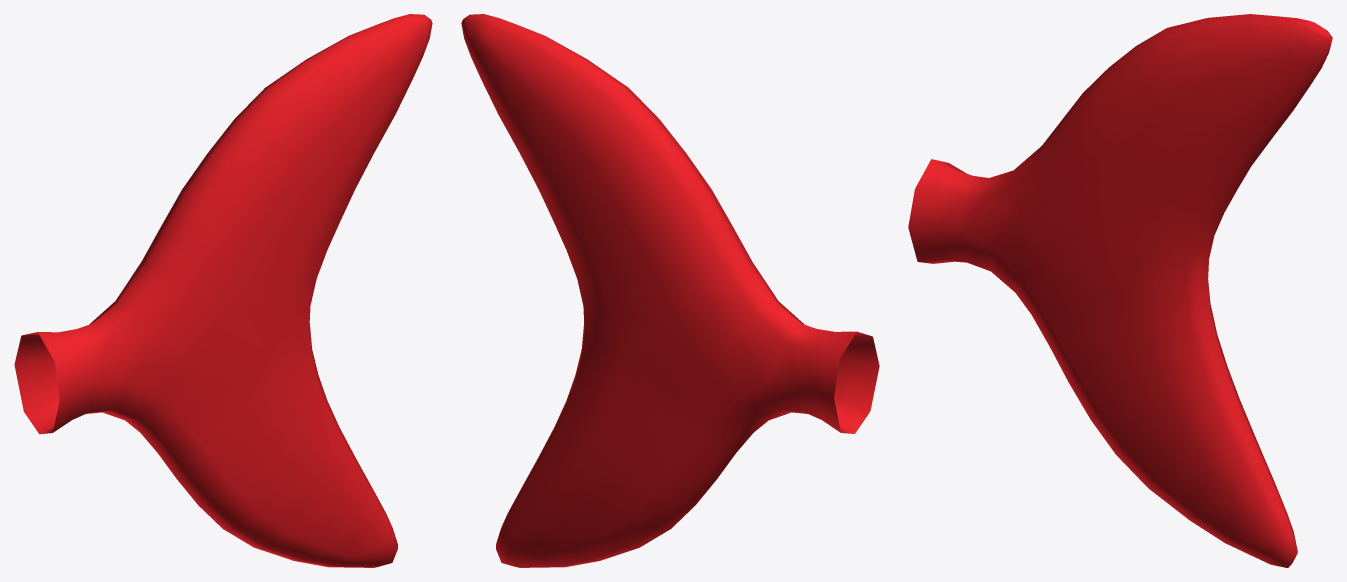
Rendered from queue_fish_red.glb.
3 renders of one model, left to right at view 1: azimuth 30°, elevation 25°; view 2: azimuth 150°, elevation 25°; view 3: azimuth 330°, elevation 25°, orthographic.
Visible parts, largest first — view 1: node_id6; view 2: node_id6; view 3: node_id6.
Part boxes in pixels (<box>): node_id6: <box>14,14,432,567</box>; node_id6: <box>461,14,879,567</box>; node_id6: <box>908,14,1332,567</box>.
Size of the model in its own units: 0.3874 by 0.512 by 0.0775.
Materials: 1 (1 with a texture image).
